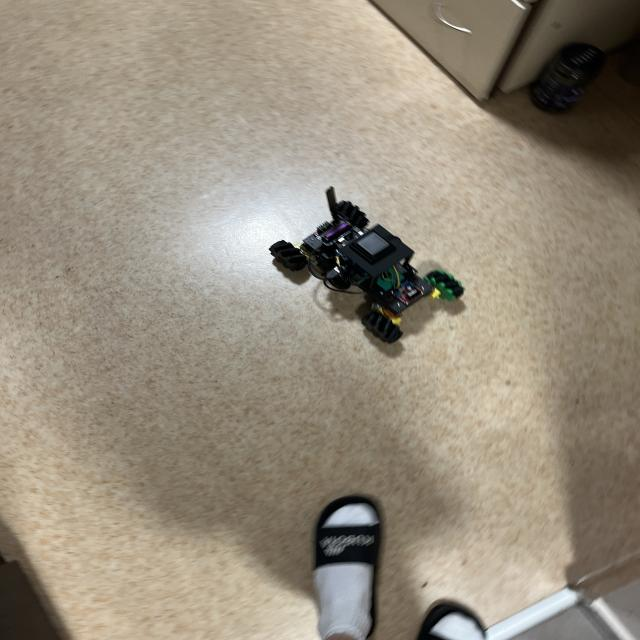robot: (269, 187, 464, 343)
